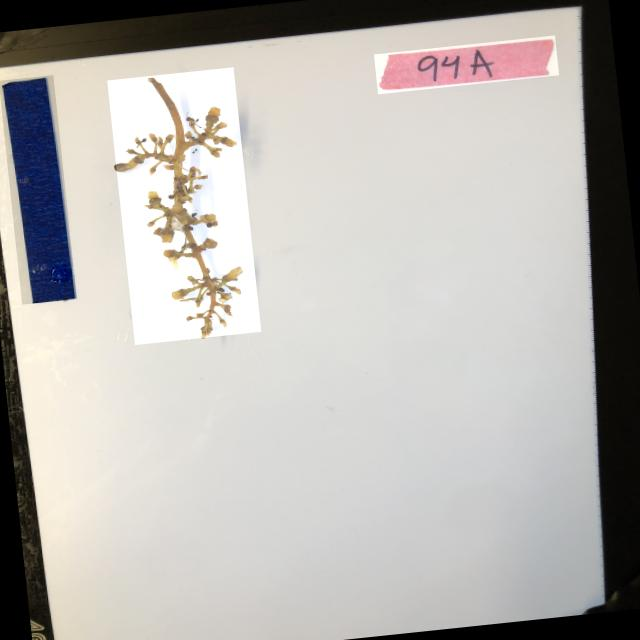index: (374, 35, 558, 94)
measure_label: (0, 74, 76, 304)
rachis_cluster: (107, 66, 261, 344)
